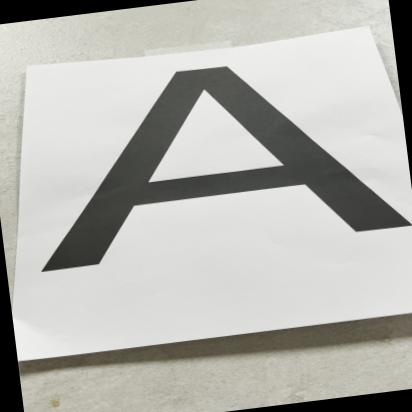seat: (5, 37, 412, 281)
